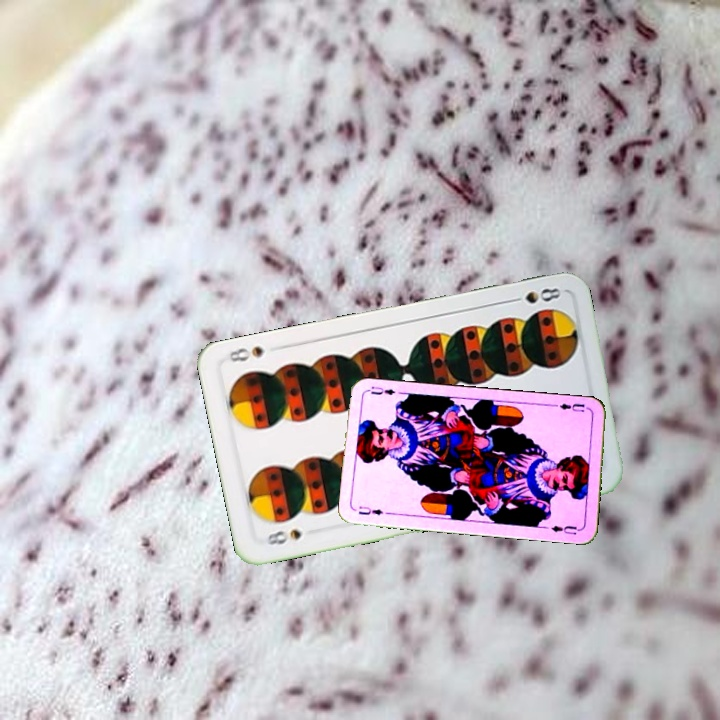EU: (555, 399, 591, 415), (355, 502, 386, 518)
S8: (505, 281, 563, 306), (263, 525, 304, 548)
